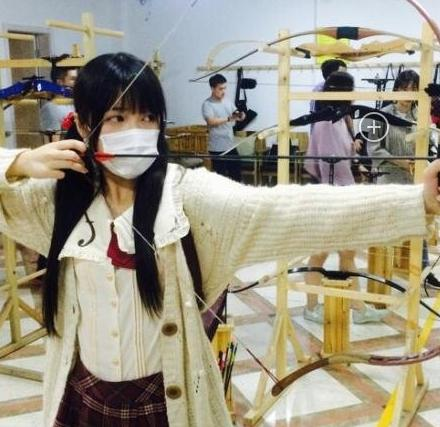NONE: (214, 82, 227, 99)
OK: (94, 104, 171, 181)
